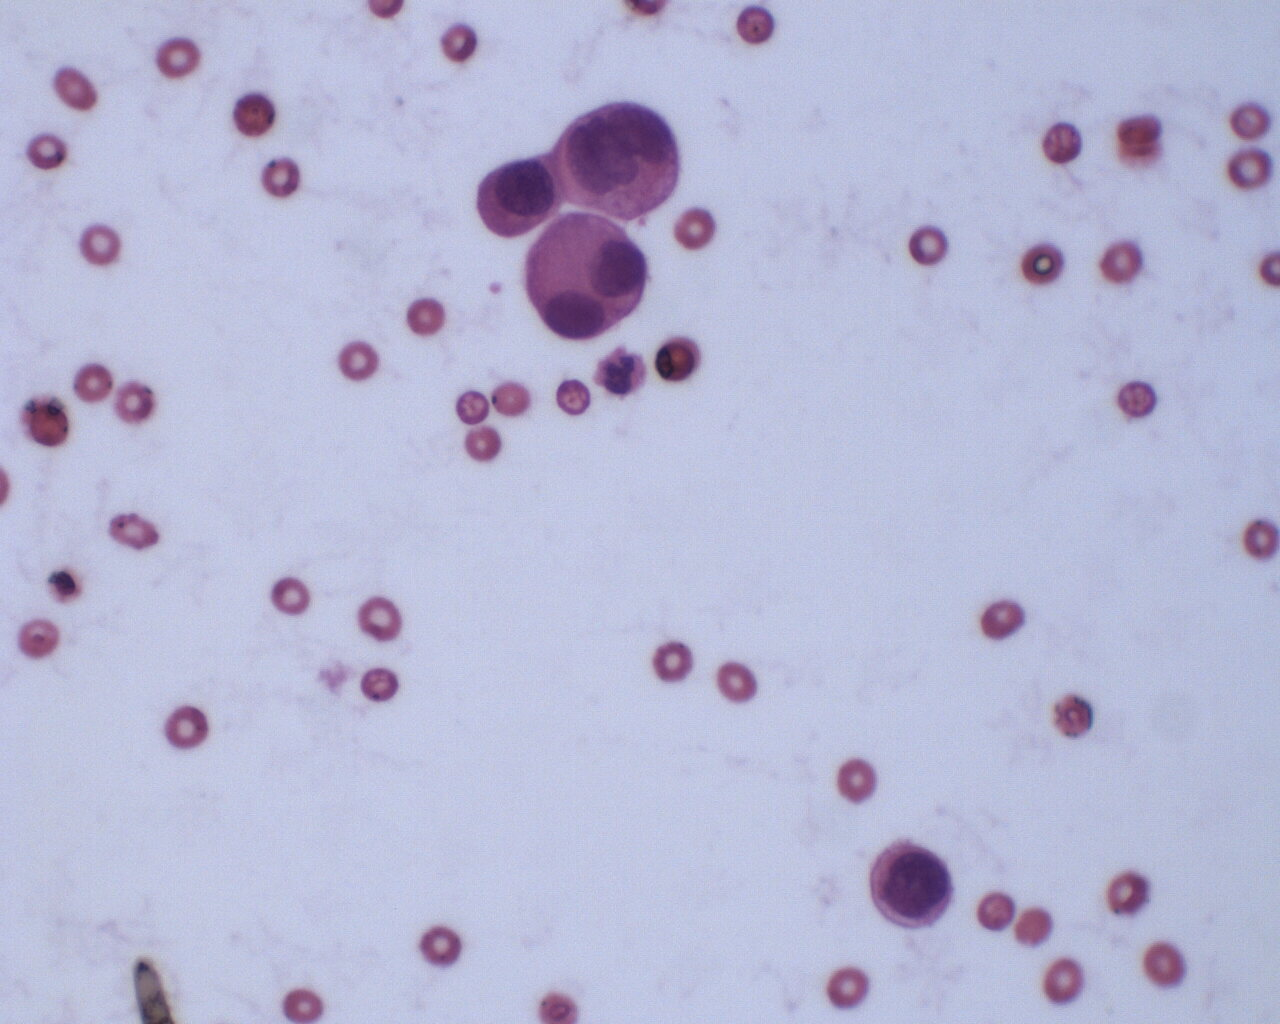ab: (860, 832, 961, 940)
meso: (515, 213, 654, 346), (553, 103, 685, 225), (468, 155, 567, 241)
